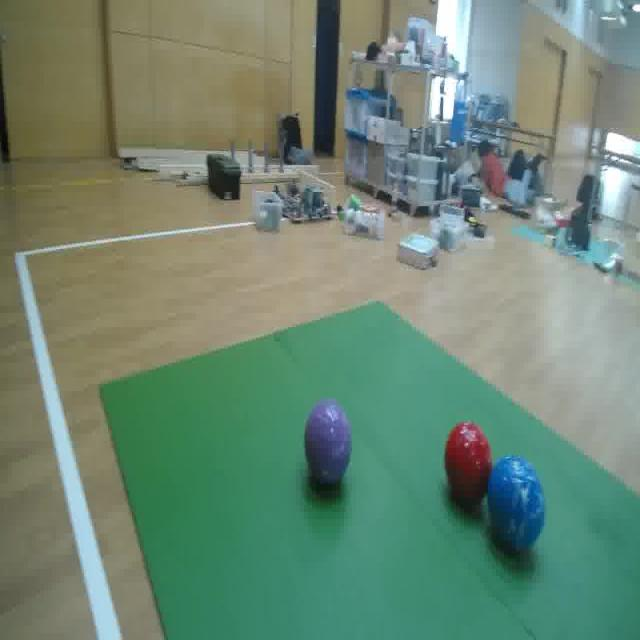blue_ball: (488, 452, 547, 556)
purple_ball: (306, 406, 352, 488)
red_ball: (442, 425, 492, 511)
